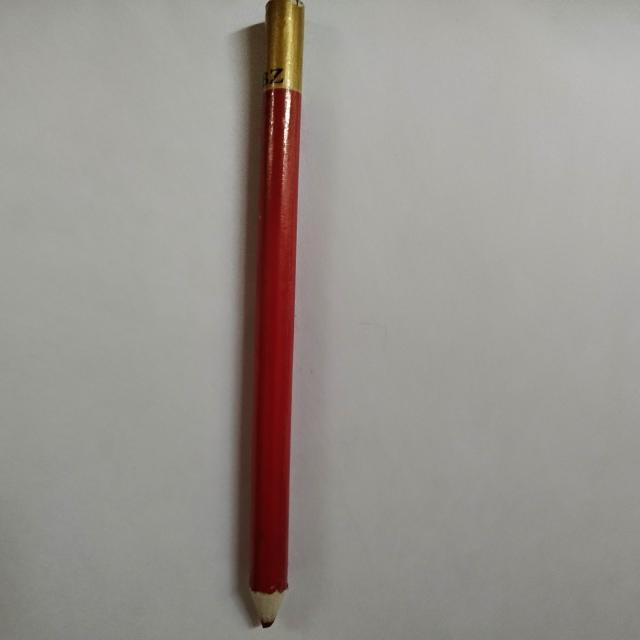pencil: (248, 0, 304, 628)
